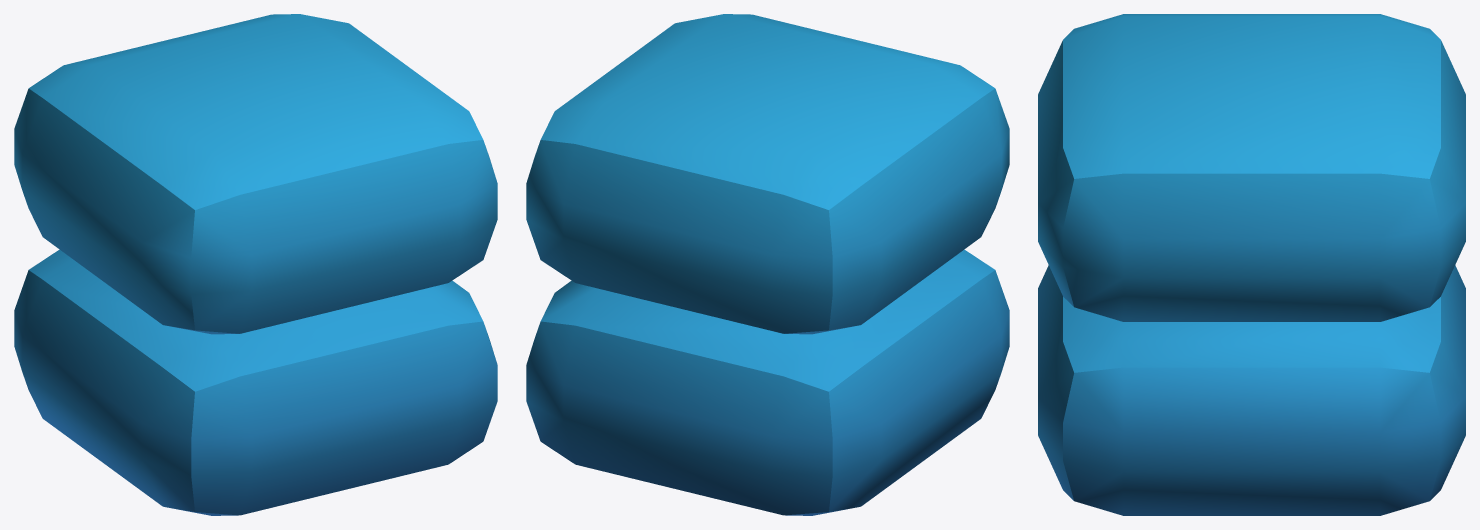
File: barrier_1x1x1_blue.glb
3 renders of one model, left to right at view 1: azimuth 30°, elevation 25°; view 2: azimuth 150°, elevation 25°; view 3: azimuth 270°, elevation 25°, orthographic. The views are drawn at different scales.
Parts seen in each view (by area): view 1: barrier_1x1x1_blue; view 2: barrier_1x1x1_blue; view 3: barrier_1x1x1_blue.
Part boxes in pixels (<box>): barrier_1x1x1_blue: <box>14,14,497,515</box>; barrier_1x1x1_blue: <box>526,14,1009,515</box>; barrier_1x1x1_blue: <box>1038,14,1465,515</box>.
Size of the model in its own units: 1 by 1 by 1.
Materials: 1 (1 with a texture image).
